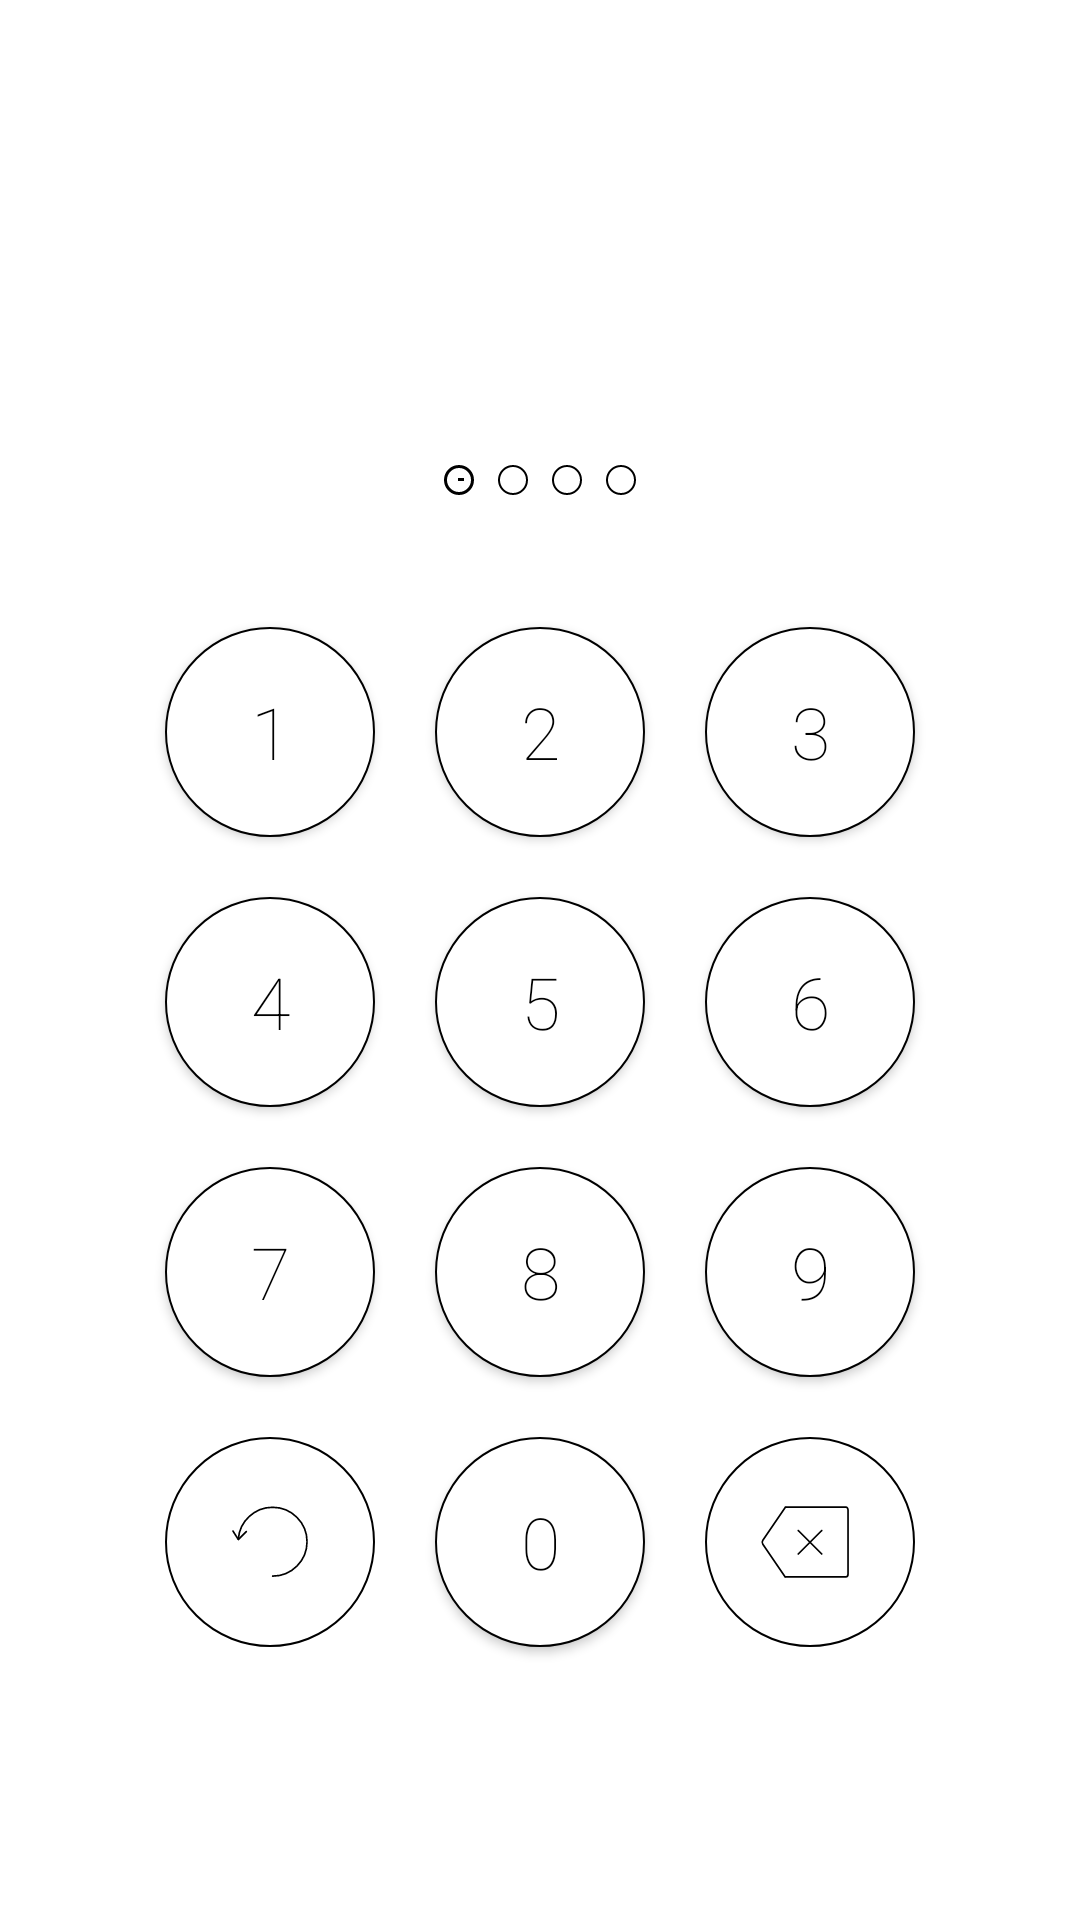

Icons on this 1080 × 1920 Android screen, each with its box as [x1=x1, y1=y1, x2=x2, y2=y2]:
password input clear: [x1=165, y1=1437, x2=375, y2=1647]
password input delete: [x1=705, y1=1437, x2=915, y2=1647]
